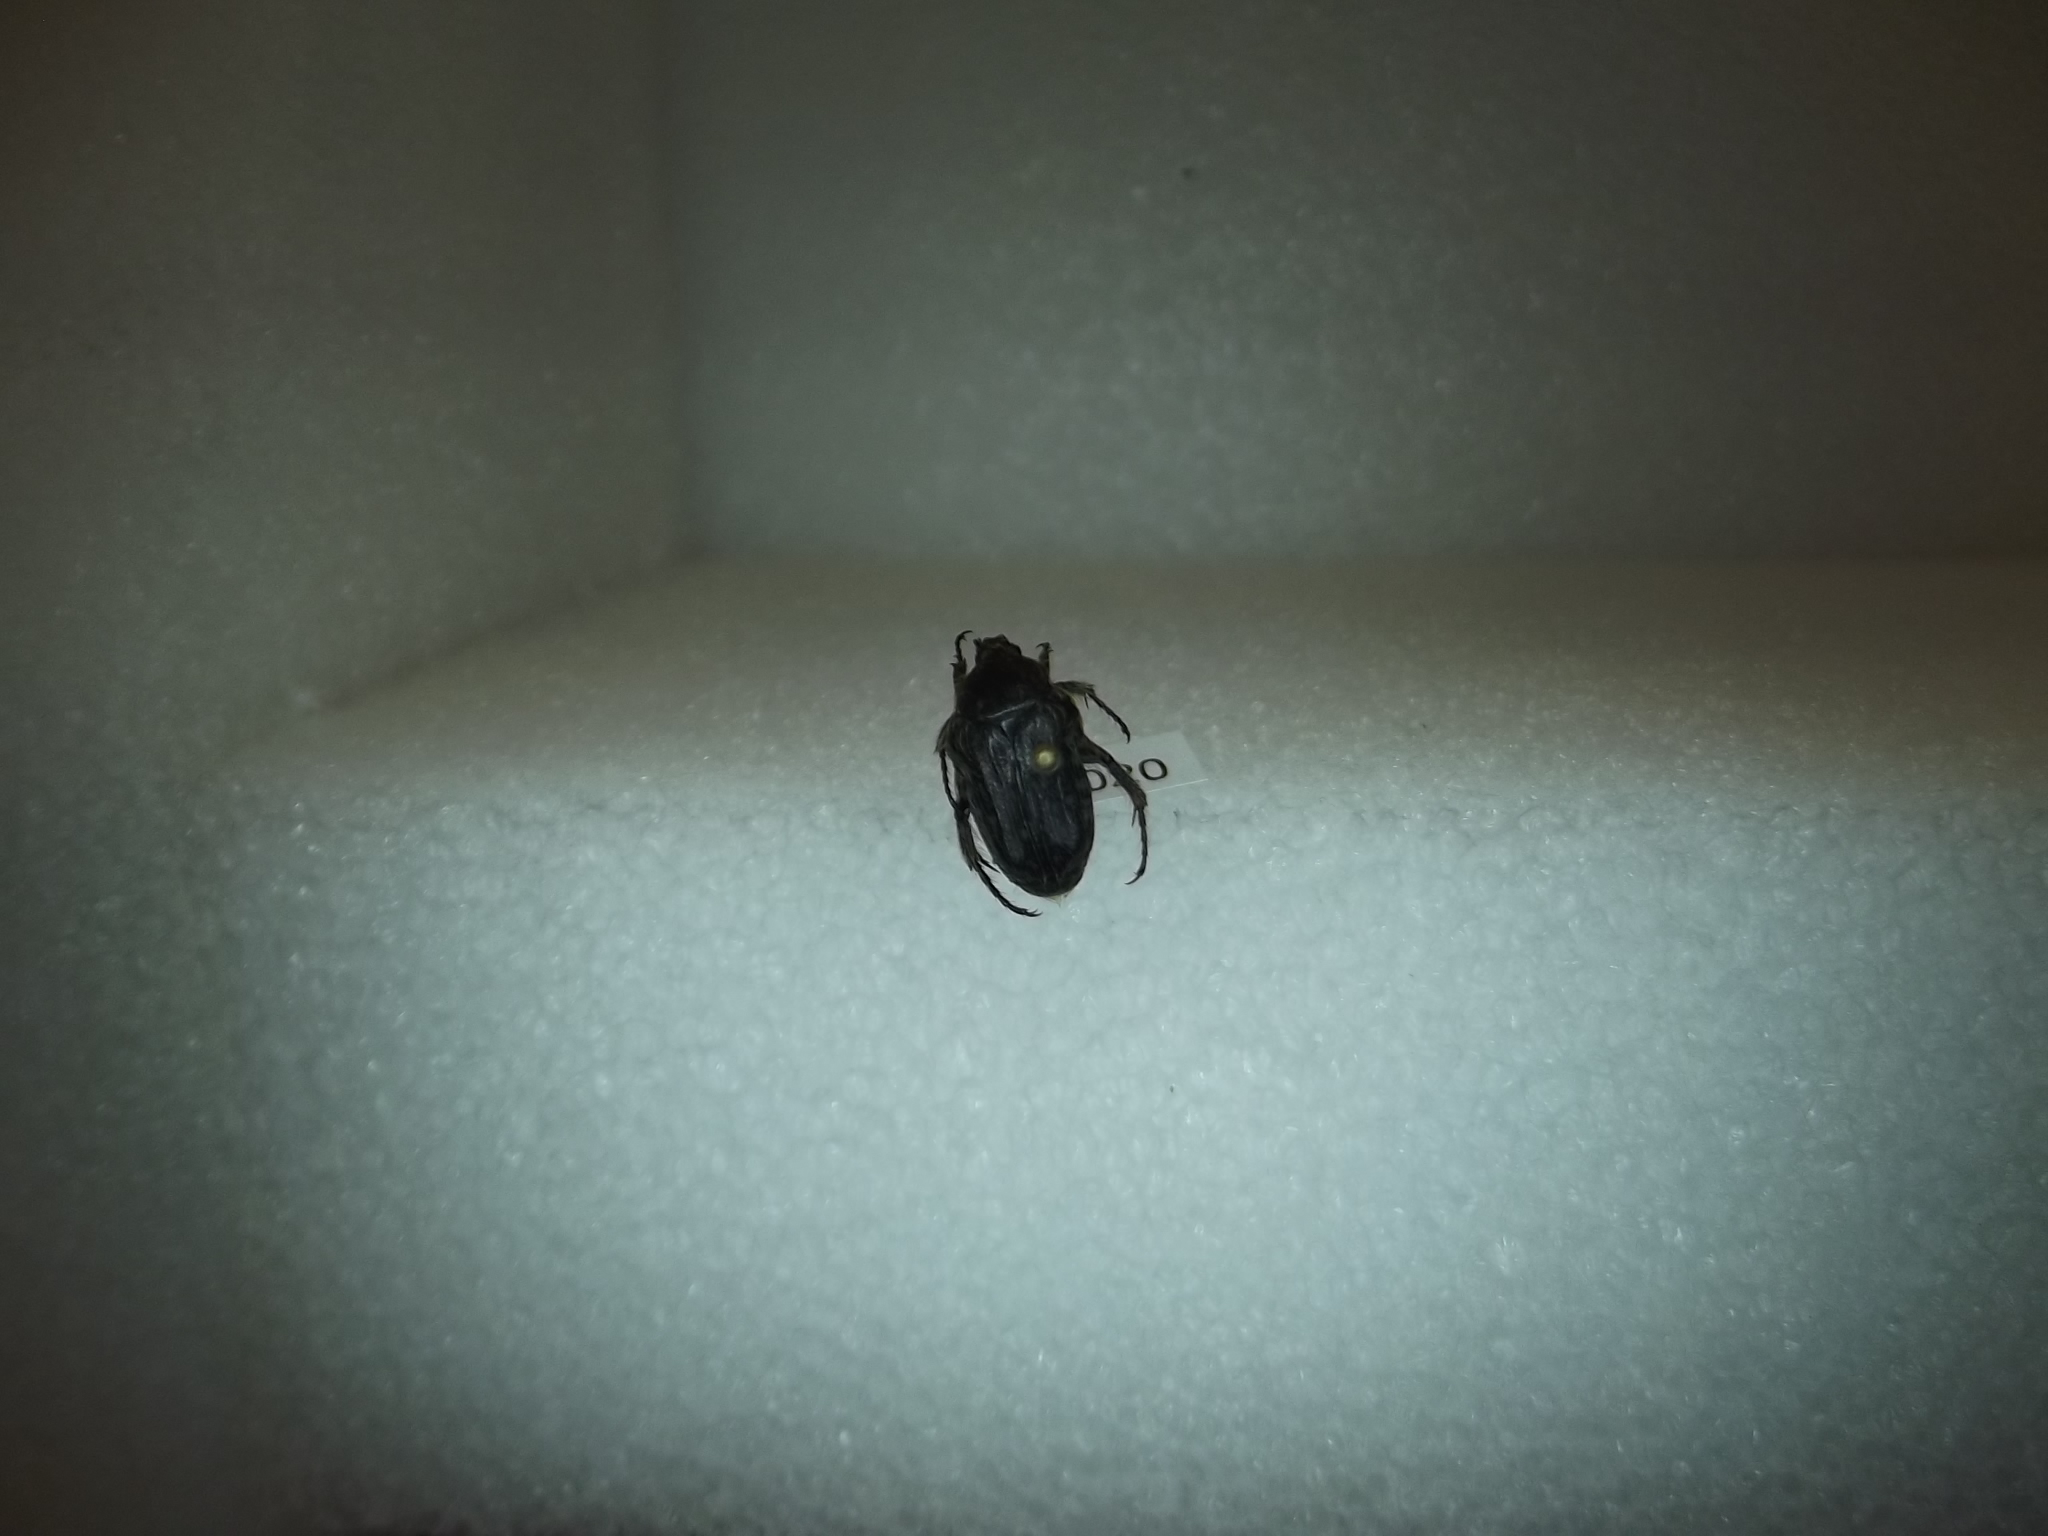Tropinota_senicula: (927, 616, 1188, 921)
